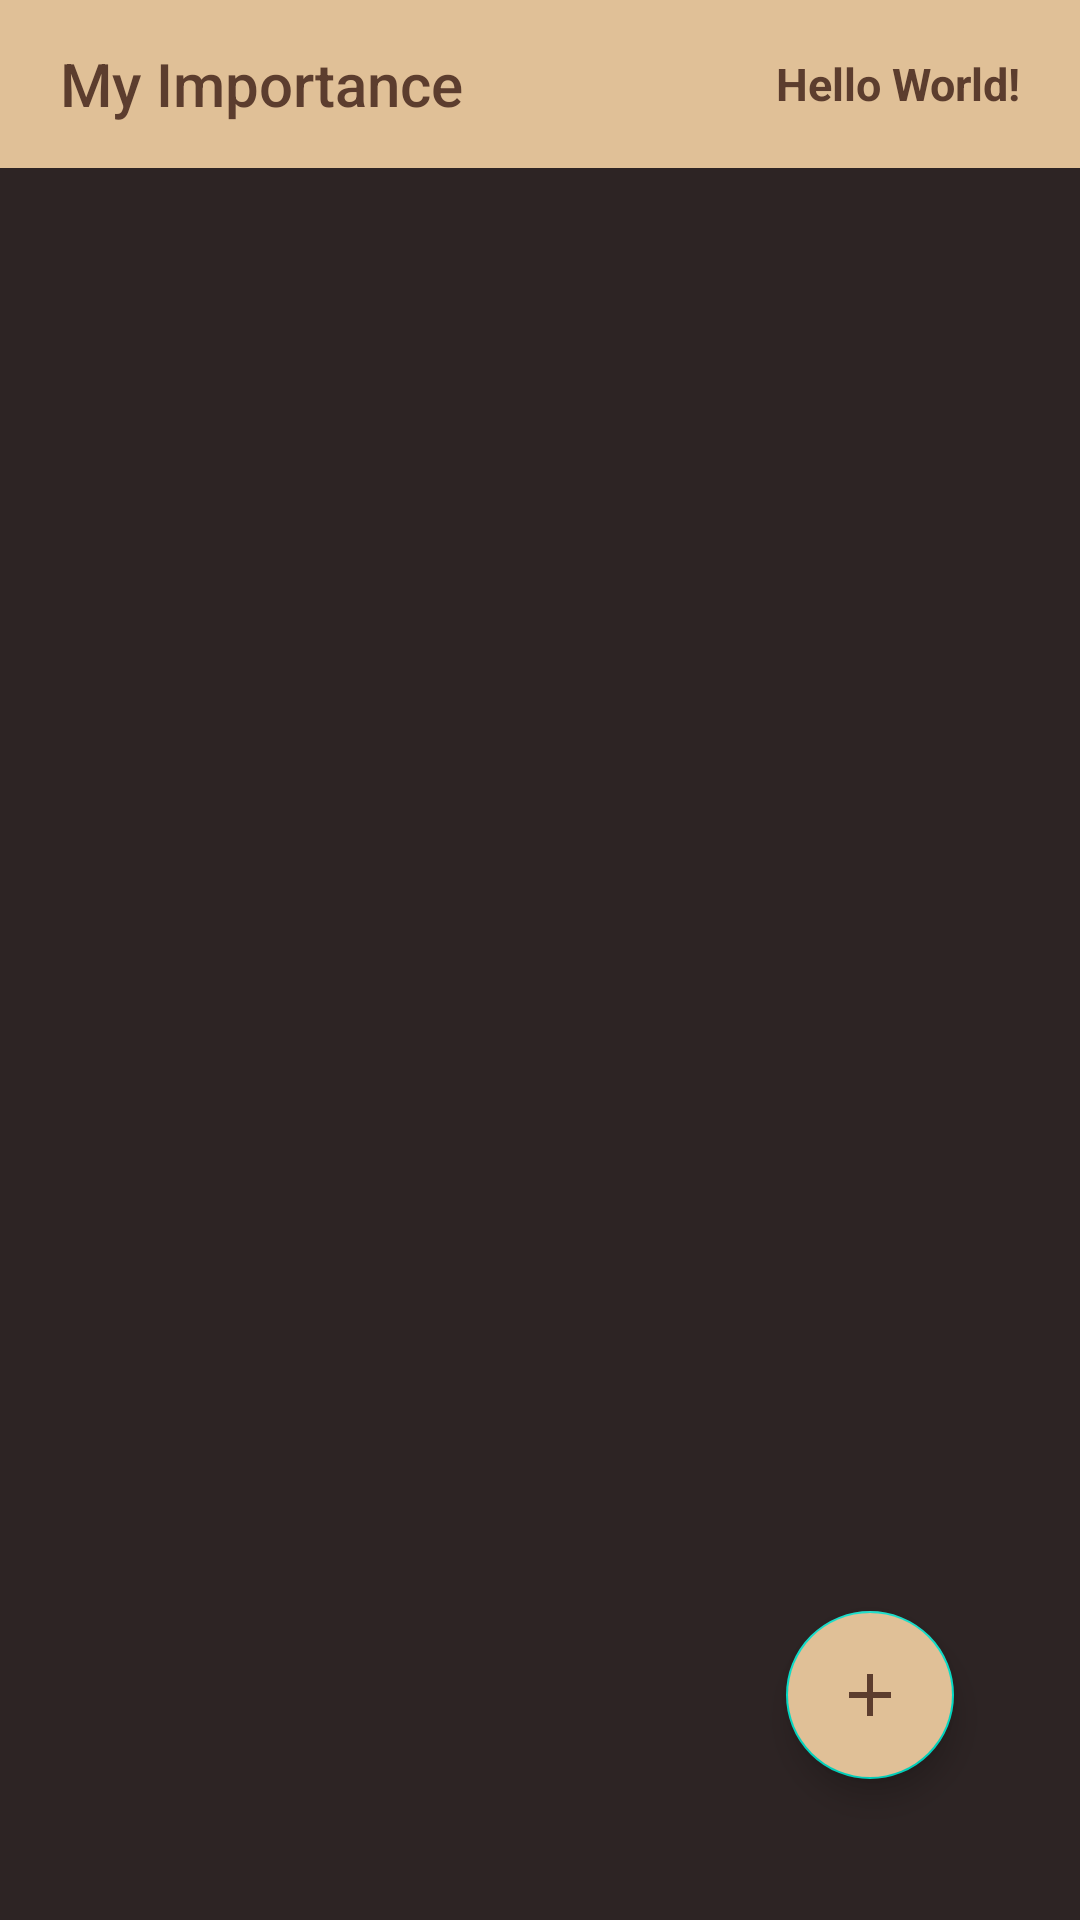

Named icons in this screenshot (1080*1920) and their bounding boxes, (x1, y1, x2, y2):
add: (786, 1611, 954, 1779)
